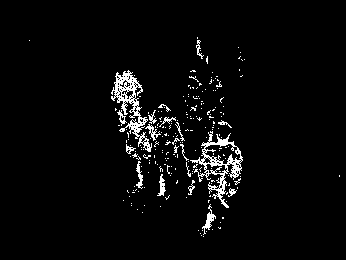person: (198, 120, 244, 235), (148, 104, 184, 199), (124, 114, 157, 193), (110, 70, 144, 131)
